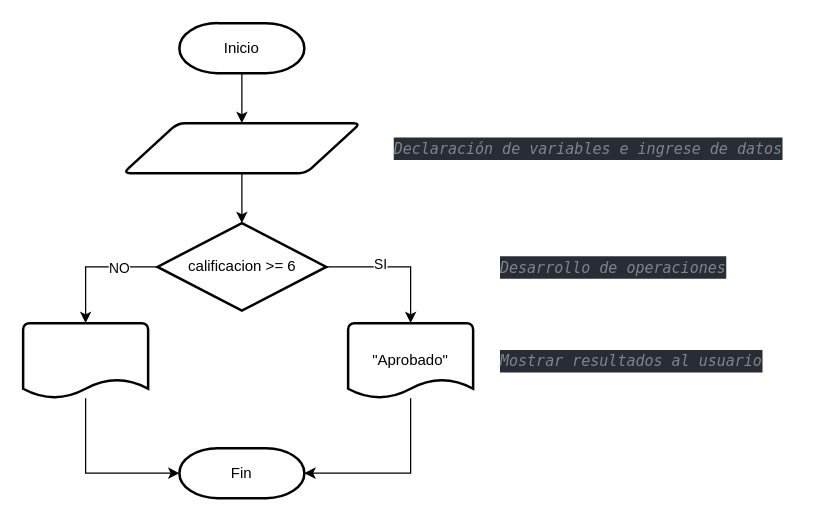
The diagram is 838 pixels wide and 520 high, and some of its shapes have lost their labels. The centre of each missing label's shape, as x and y in pixels:
"Reprobado": [85,360]
calificación: [241,147]
